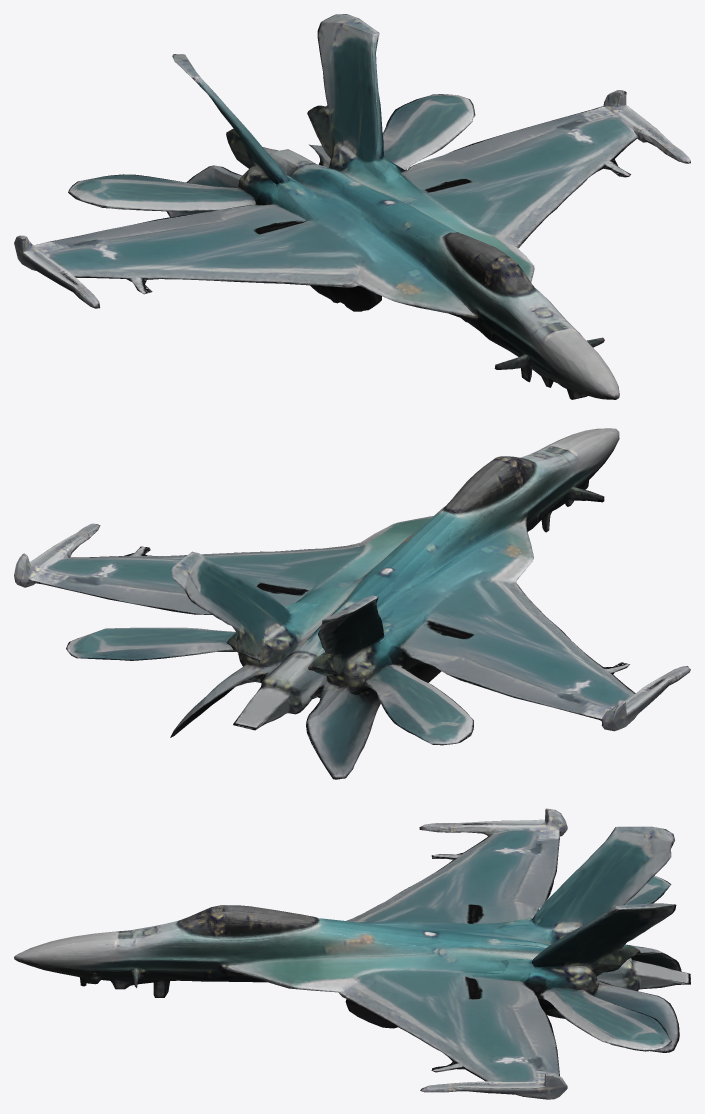
3 views of the same model, one above another, from view 1: azimuth 30°, elevation 25°; view 2: azimuth 150°, elevation 25°; view 3: azimuth 270°, elevation 25° (orthographic). The views are drawn at different scales.
Visible parts, largest first — view 1: world; view 2: world; view 3: world.
Boxes of the visible parts, x1=… form: world: x1=14, y1=14, x2=690, y2=399; world: x1=14, y1=428, x2=690, y2=779; world: x1=14, y1=808, x2=690, y2=1099.
Size of the model in its own units: 0.9329 by 0.2432 by 0.9974.
Materials: 1 (1 with a texture image).
